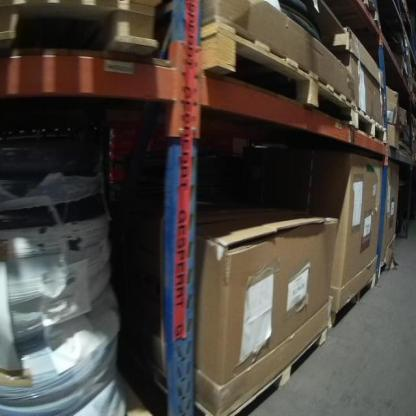pallet: (145, 315, 332, 415), (195, 19, 354, 129), (3, 3, 170, 66), (332, 267, 379, 326), (352, 107, 389, 148)
